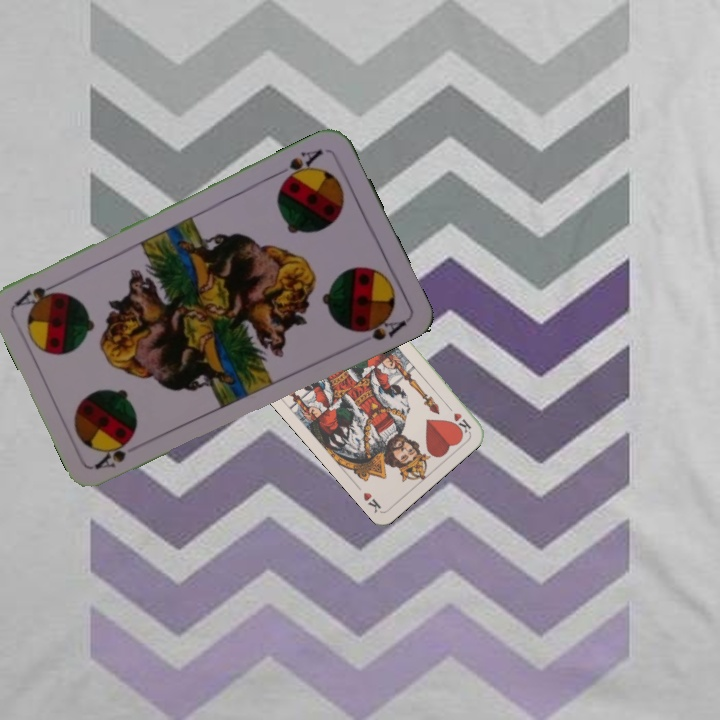HK: (441, 400, 474, 436)
SA: (272, 145, 326, 186), (91, 435, 135, 472)
